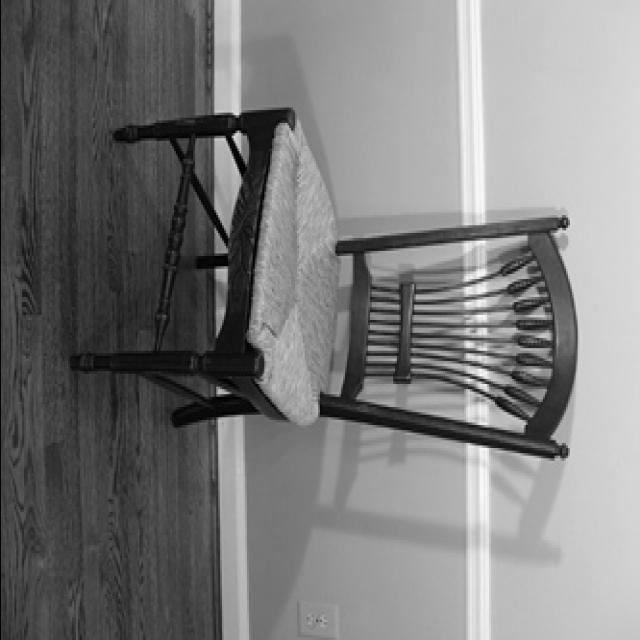chair: (75, 106, 574, 462)
